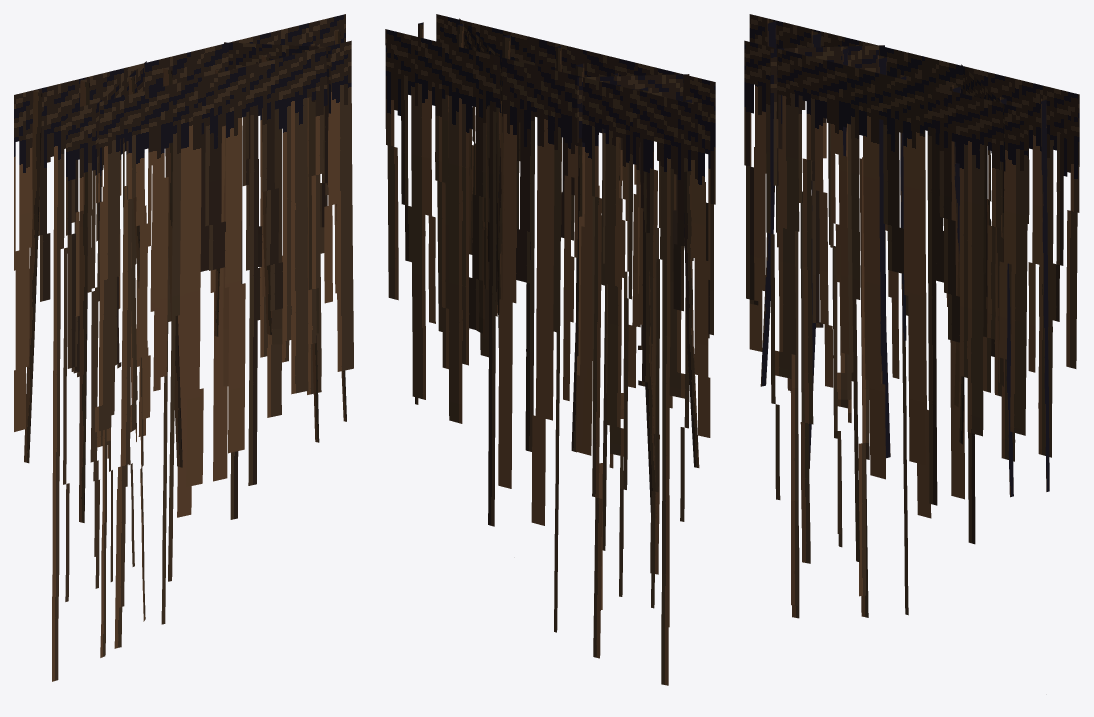
Rendered from FLO-04_Cabellera_de_dique.gltf.
3 renders of one model, left to right at view 1: azimuth 30°, elevation 25°; view 2: azimuth 150°, elevation 25°; view 3: azimuth 330°, elevation 25°, orthographic. The views are drawn at different scales.
Visible parts, largest first — view 1: FLO-04_Cabellera_de_dique; view 2: FLO-04_Cabellera_de_dique; view 3: FLO-04_Cabellera_de_dique.
Boxes of the visible parts, <box> form: FLO-04_Cabellera_de_dique: <box>14,14,353,681</box>; FLO-04_Cabellera_de_dique: <box>385,14,715,685</box>; FLO-04_Cabellera_de_dique: <box>744,14,1079,618</box>.
Size of the model in its own units: 1.6 by 2.8 by 0.3389.
1 material, 1 textured.
